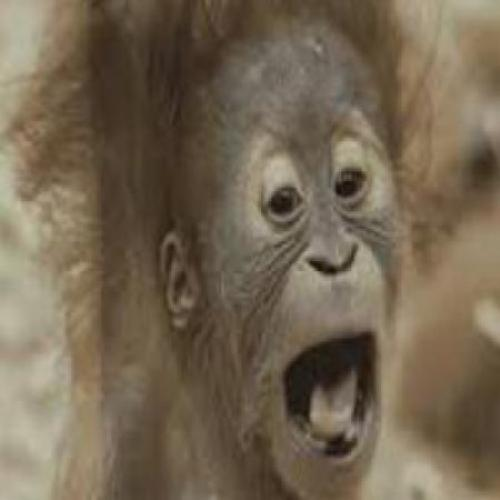orangutan-endangered: (98, 21, 455, 494)
